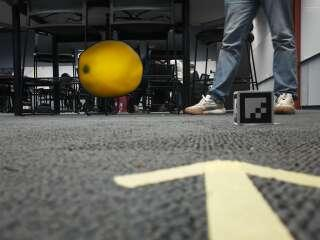lemon: (78, 42, 143, 99)
